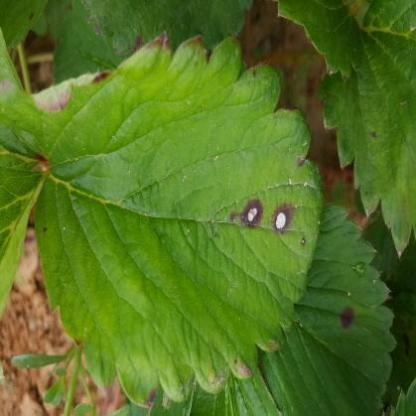Strawberry_Leaf_Spot: (35, 29, 324, 411), (258, 204, 398, 415), (318, 0, 415, 261), (0, 69, 118, 159), (0, 0, 54, 50)
